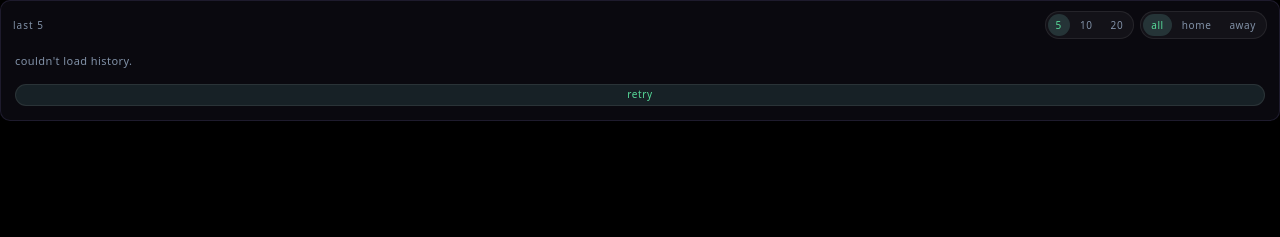
it: PickHistoryStrip — game line variants › offers a retry button when the player history fetch fails, and clicking it refetches
Expected: the text "Couldn't load history." is shown, [15, 53, 132, 68]
Click the button with test id "pick-history-strip-retry" at (640, 94), box [15, 84, 1265, 106]
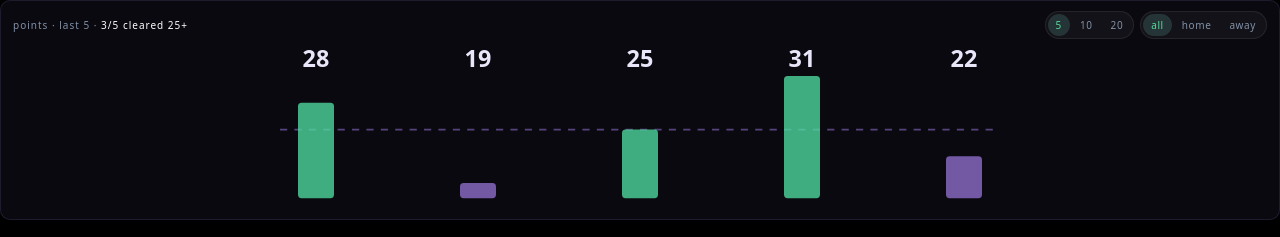
Expected: the element with test id "pick-history-strip" is shown
